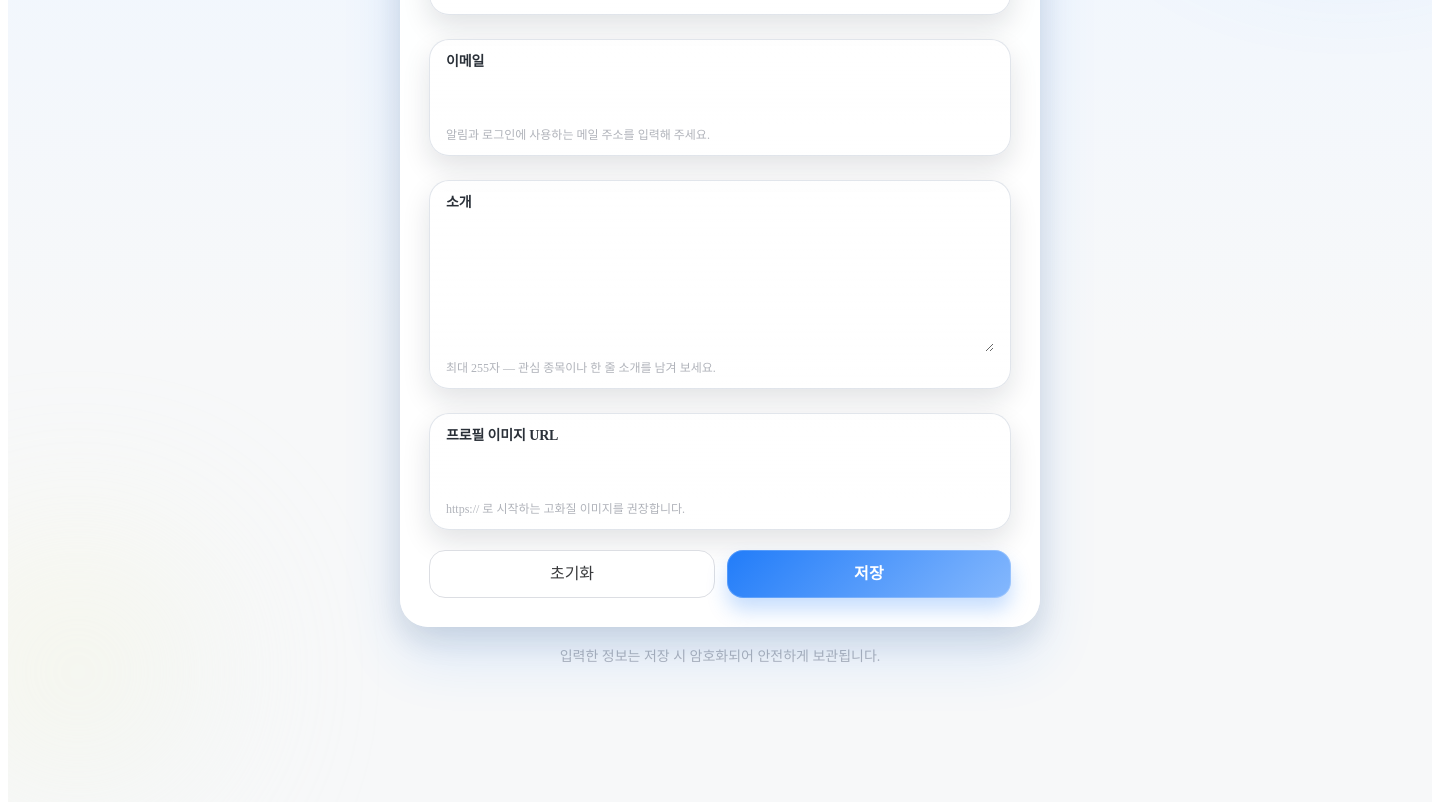
Scenario: ProfileFormDemo 접근성 › 빈 값 제출 시 aria 속성과 에러, 포커스 상태를 정확히 제어
(page scrolled)
What coordinates should you click on to do the following:
click the button with aria-label "submit"
I would click on:
 (869, 574)
Its box is [727,550,1011,598].
(page scrolled)
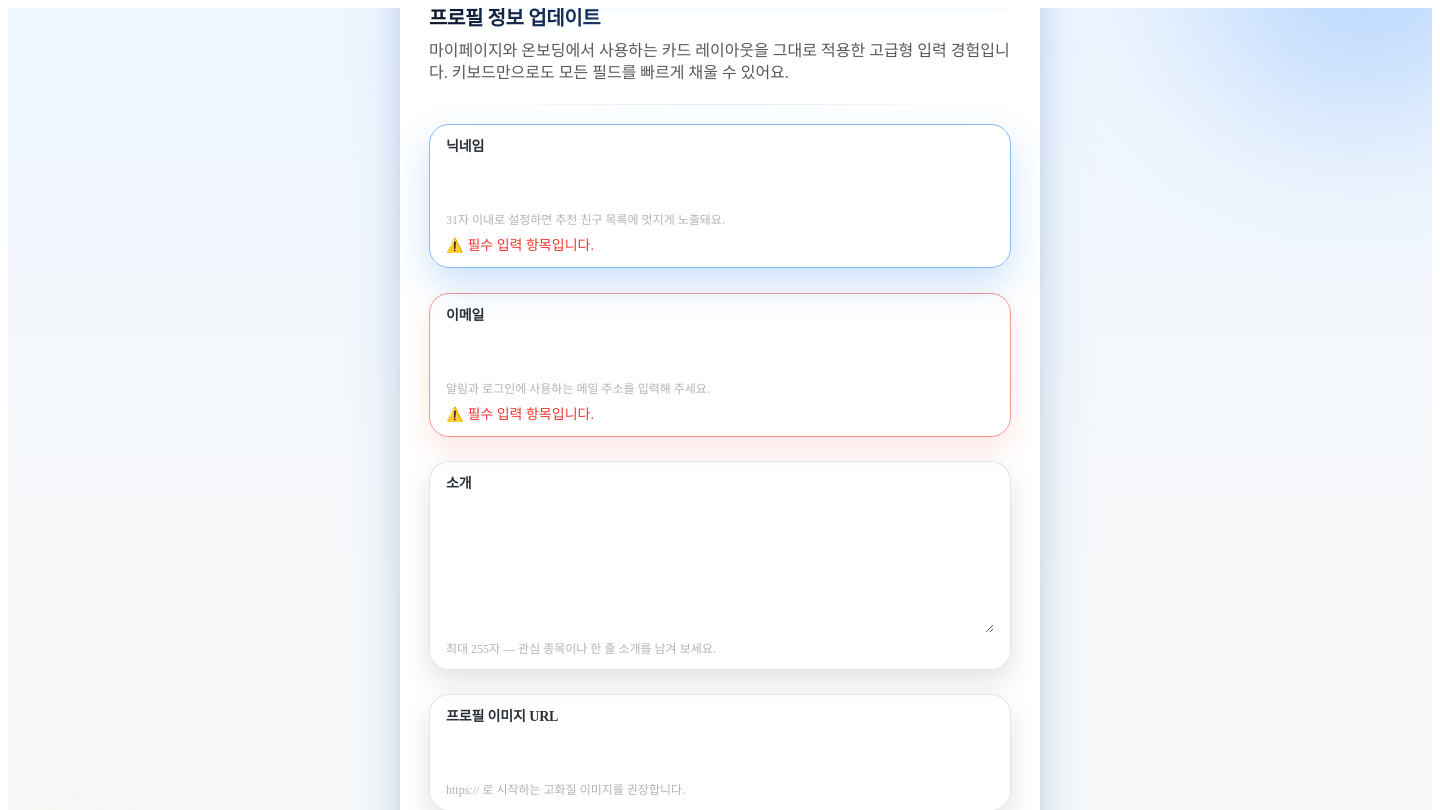
Check: the text "필수 입력 항목입니다." below "31자 이내로 설정하면 추천 친구 목록에 멋지게 노출돼요." is shown, box [468,238,594,253]
